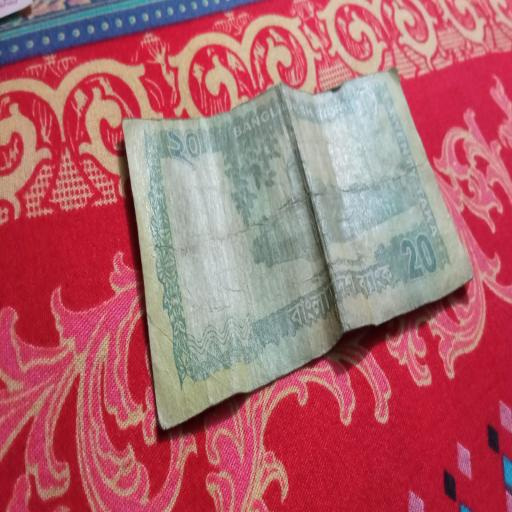20taka: (122, 69, 477, 429)
